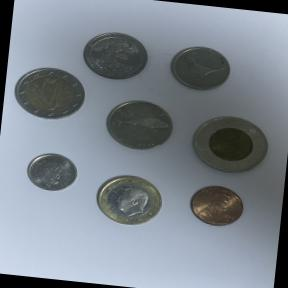1 Euro-B: (87, 166, 173, 234)
2 Euro-B: (10, 62, 90, 126)
Canada-10cent-B: (22, 146, 86, 198)
Canada-2Dollar-B: (182, 106, 279, 186)
Croatia-2Kune-B: (99, 91, 181, 159)
US-1cent-B: (184, 180, 254, 236)
US-25cent-B: (78, 28, 154, 86)
